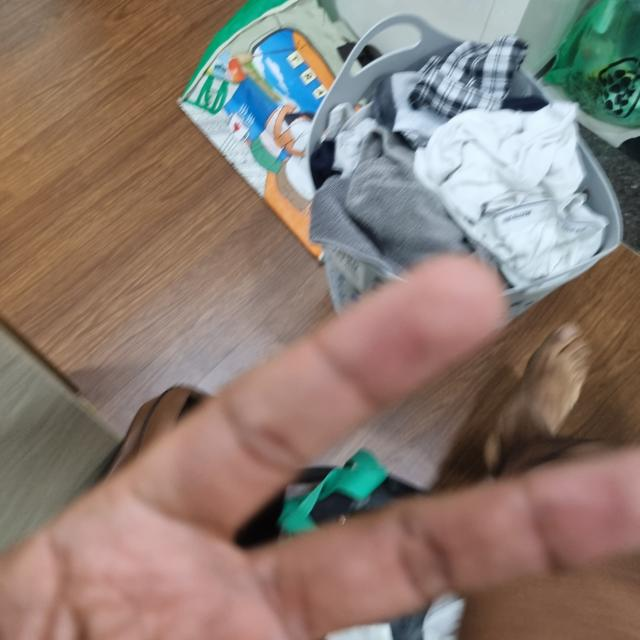Scissors: (0, 260, 636, 639)
